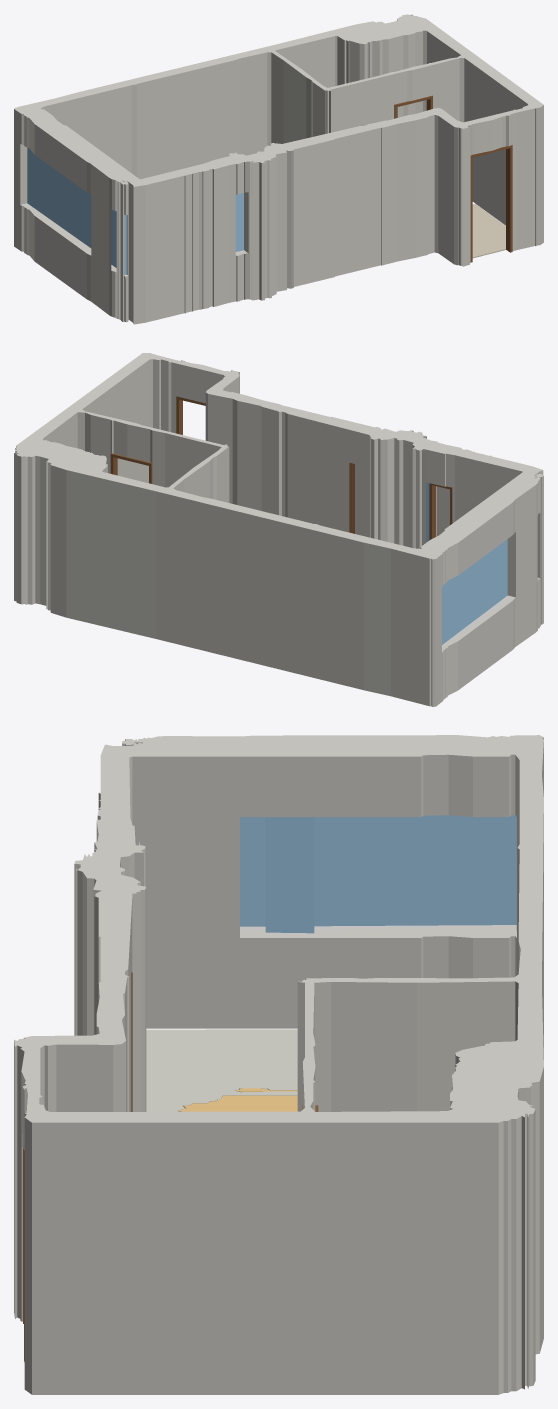
3 renders of one model, top to bottom at view 1: azimuth 30°, elevation 25°; view 2: azimuth 150°, elevation 25°; view 3: azimuth 270°, elevation 25°, orthographic. The views are drawn at different scales.
Visible parts, largest first — view 1: walls, window_4, floor_2_Entry, door_3, window_8; view 2: walls, window_4, door_1; view 3: walls, window_4, floor_7_Undefined, window_5, floor_0_Kitchen, sill_4.
Boxes of the visible parts, left/top/right/bottom form: walls: left=14, top=14, right=543, bottom=324; window_4: left=27, top=148, right=91, bottom=247; floor_2_Entry: left=472, top=204, right=505, bottom=258; door_3: left=470, top=145, right=512, bottom=262; window_8: left=235, top=192, right=243, bottom=251; walls: left=14, top=353, right=543, bottom=706; window_4: left=442, top=539, right=507, bottom=644; door_1: left=429, top=483, right=452, bottom=540; walls: left=14, top=735, right=543, bottom=1394; window_4: left=240, top=815, right=516, bottom=926; floor_7_Undefined: left=146, top=1029, right=297, bottom=1111; window_5: left=265, top=817, right=314, bottom=933; floor_0_Kitchen: left=178, top=1088, right=297, bottom=1111; sill_4: left=240, top=925, right=516, bottom=929.
Size of the model in its own units: 8.25 by 2.72 by 4.77.
